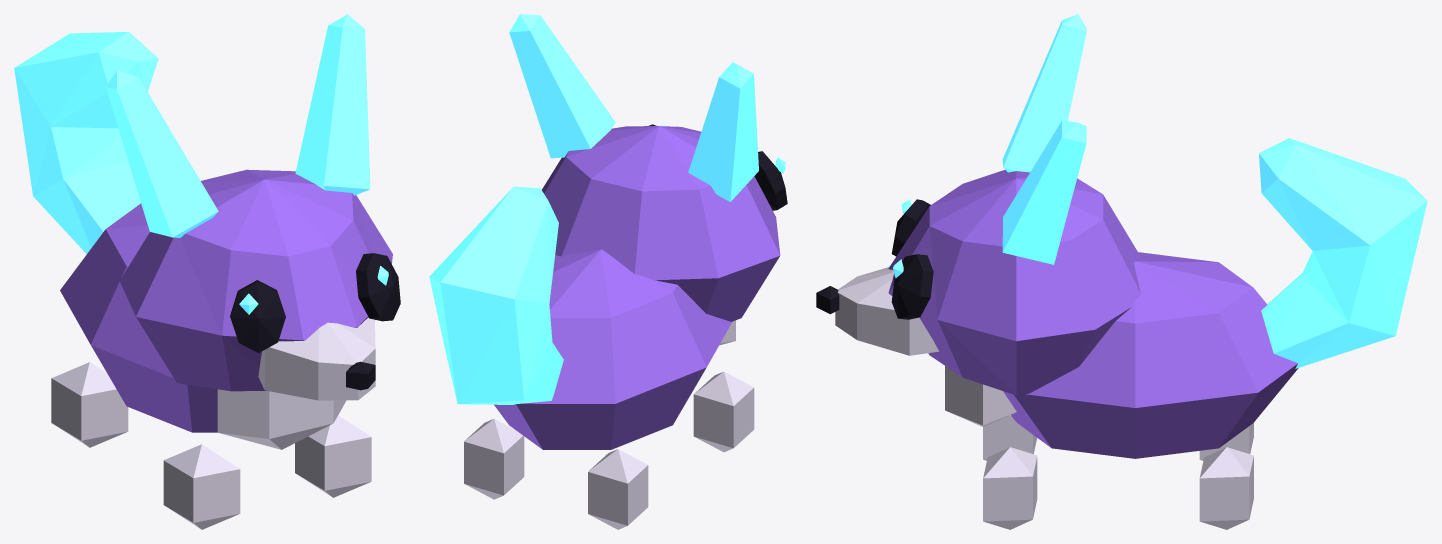
Rendered from NebulaFox.fbx.
The picture shows the model from 3 angles, left to right: view 1: azimuth 30°, elevation 25°; view 2: azimuth 150°, elevation 25°; view 3: azimuth 270°, elevation 25°; orthographic projection. The views are drawn at different scales.
Parts seen in each view (by area): view 1: Body, Accent, Secondary, Eyes; view 2: Body, Accent, Secondary, Eyes; view 3: Body, Accent, Secondary, Eyes.
Part boxes in pixels (x1=…): Body: x1=60, y1=169, x2=392, y2=432; Accent: x1=14, y1=14, x2=388, y2=314; Secondary: x1=51, y1=317, x2=375, y2=529; Eyes: x1=230, y1=253, x2=400, y2=390; Body: x1=494, y1=126, x2=780, y2=449; Accent: x1=429, y1=14, x2=785, y2=404; Secondary: x1=464, y1=320, x2=754, y2=529; Eyes: x1=649, y1=124, x2=787, y2=210; Body: x1=888, y1=170, x2=1298, y2=458; Accent: x1=893, y1=14, x2=1427, y2=368; Secondary: x1=835, y1=267, x2=1253, y2=529; Eyes: x1=816, y1=199, x2=933, y2=319.
Bounding box in the file's own units: 1.88 × 3.12 × 4.01.
